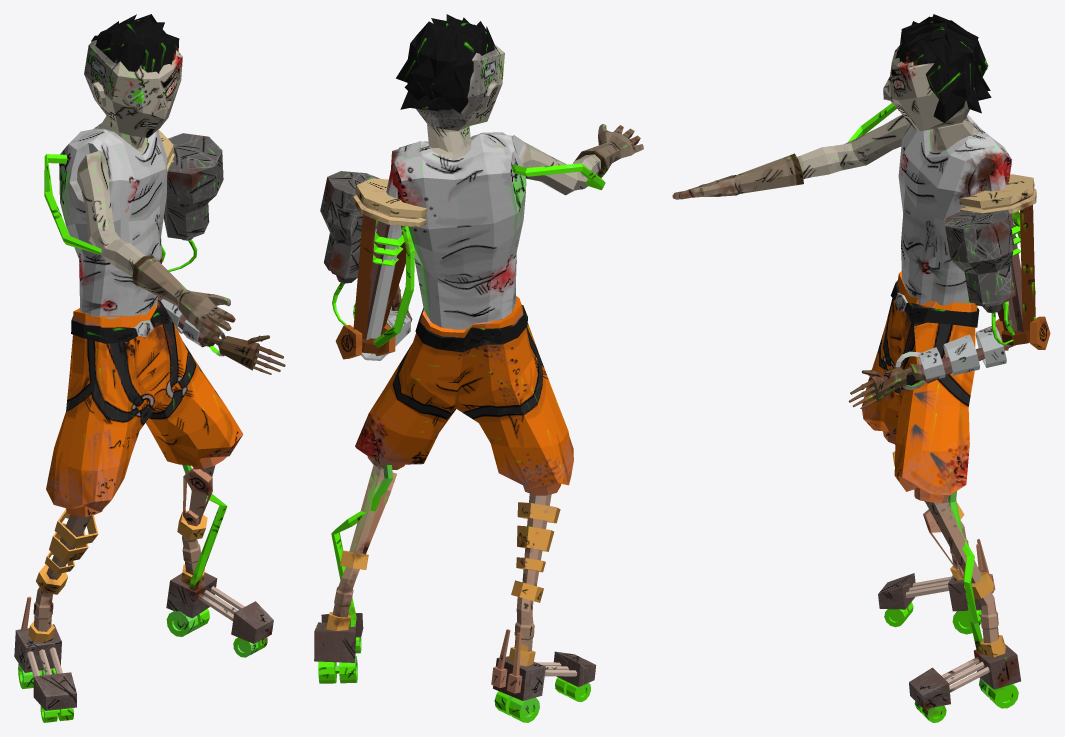
Rendered from CyborgFINALAnimation_000015.obj.
3 renders of one model, left to right at view 1: azimuth 30°, elevation 25°; view 2: azimuth 150°, elevation 25°; view 3: azimuth 270°, elevation 25°, orthographic. The views are drawn at different scales.
Parts seen in each view (by area): view 1: CyborgMesh_Cube.002; view 2: CyborgMesh_Cube.002; view 3: CyborgMesh_Cube.002.
Boxes of the visible parts, x1,y1,x2,y2 form: CyborgMesh_Cube.002: [14, 14, 285, 722]; CyborgMesh_Cube.002: [314, 14, 643, 722]; CyborgMesh_Cube.002: [672, 14, 1050, 722].
Size of the model in its own units: 3.7 by 9.55 by 5.04.
